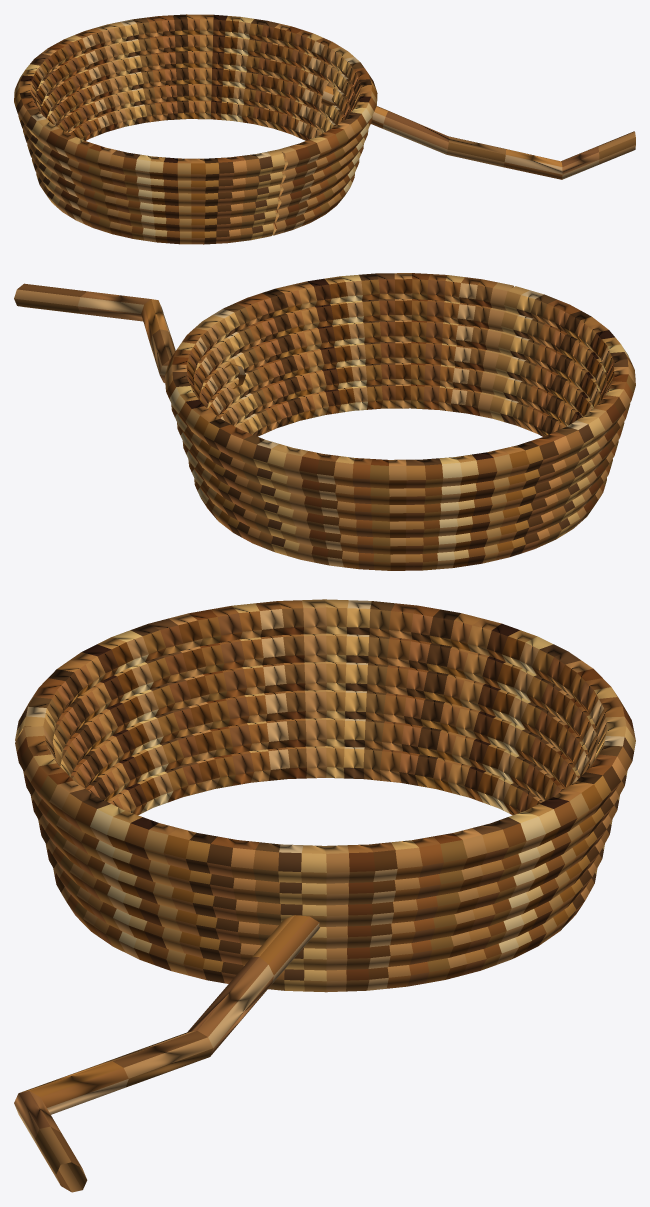
Rendered from rope-coils.glb.
3 renders of one model, top to bottom at view 1: azimuth 30°, elevation 25°; view 2: azimuth 150°, elevation 25°; view 3: azimuth 270°, elevation 25°, orthographic. The views are drawn at different scales.
Parts seen in each view (by area): view 1: rope-coils; view 2: rope-coils; view 3: rope-coils.
Boxes of the visible parts, box(x1,y1,x2,y2) form: rope-coils: box(14, 14, 635, 244); rope-coils: box(14, 273, 635, 570); rope-coils: box(14, 599, 635, 1192).
Size of the model in its own units: 0.5835 by 0.1009 by 0.3504.
